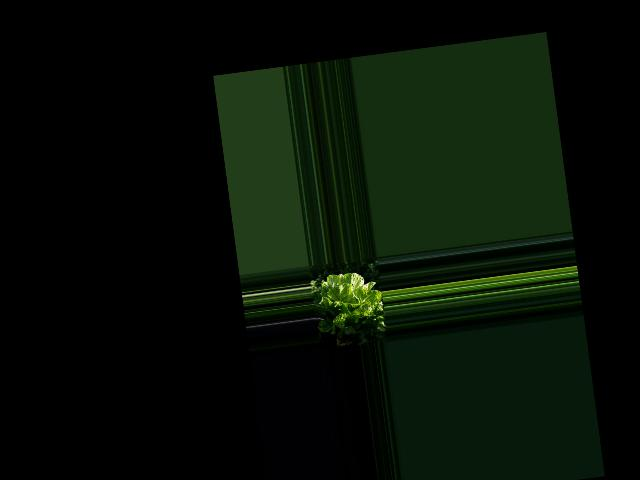lettuce: (312, 270, 379, 336)
